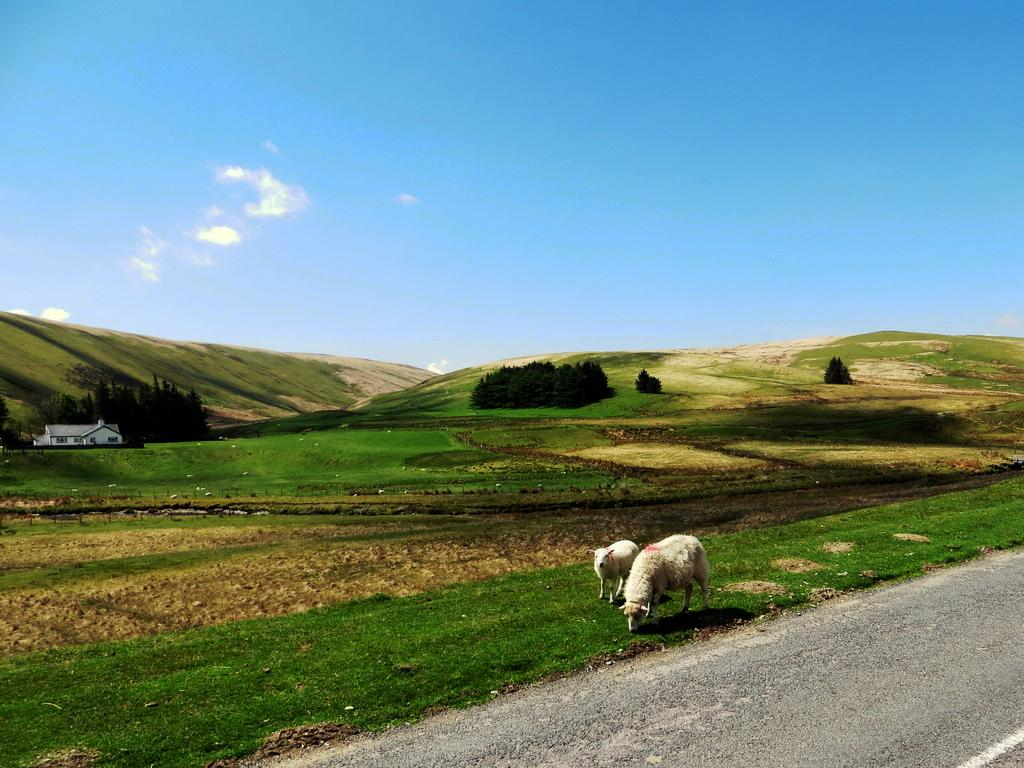Sheep: (620, 532, 714, 632), (587, 540, 641, 602)
